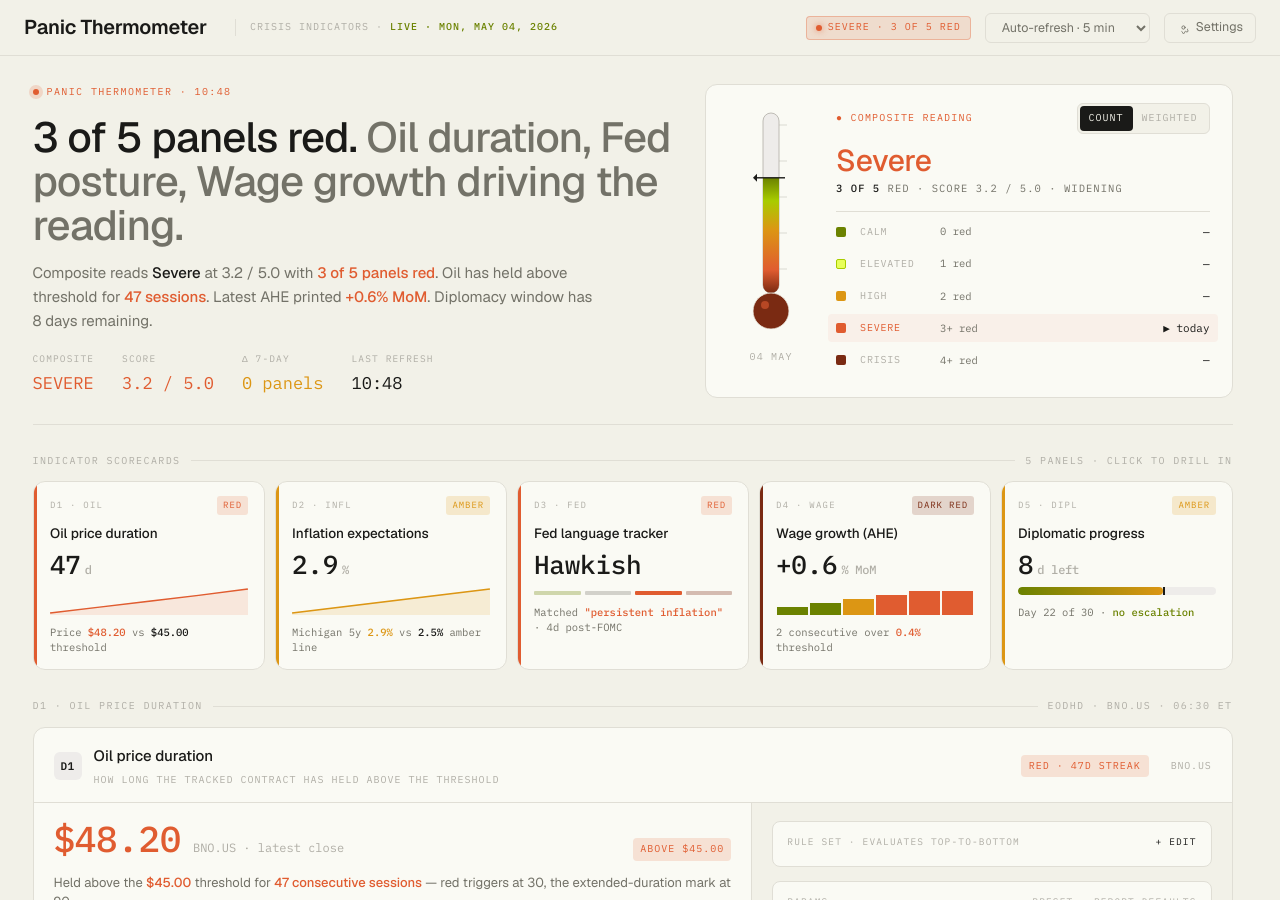
Test case: PanicThermometer page › opens the settings drawer when Settings is clicked
This screenshot has width=1280, height=900.
Expected: the text "D1 · Oil price duration" is shown, [32, 698, 203, 715]
Click the button with aria-label "Open settings".
click(1210, 28)  # box [1164, 12, 1256, 42]
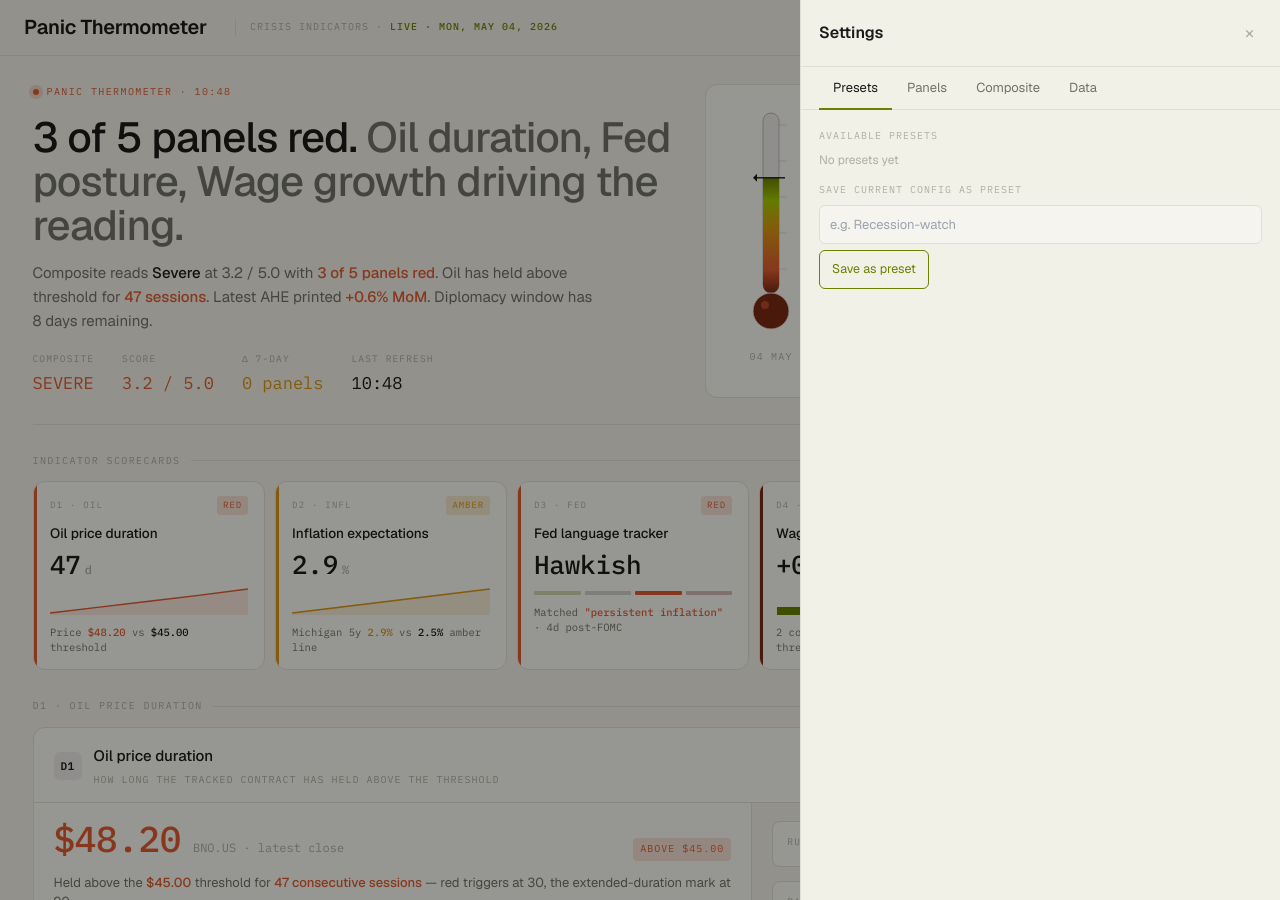
Now the dialog is shown, box [800, 0, 1279, 899]
